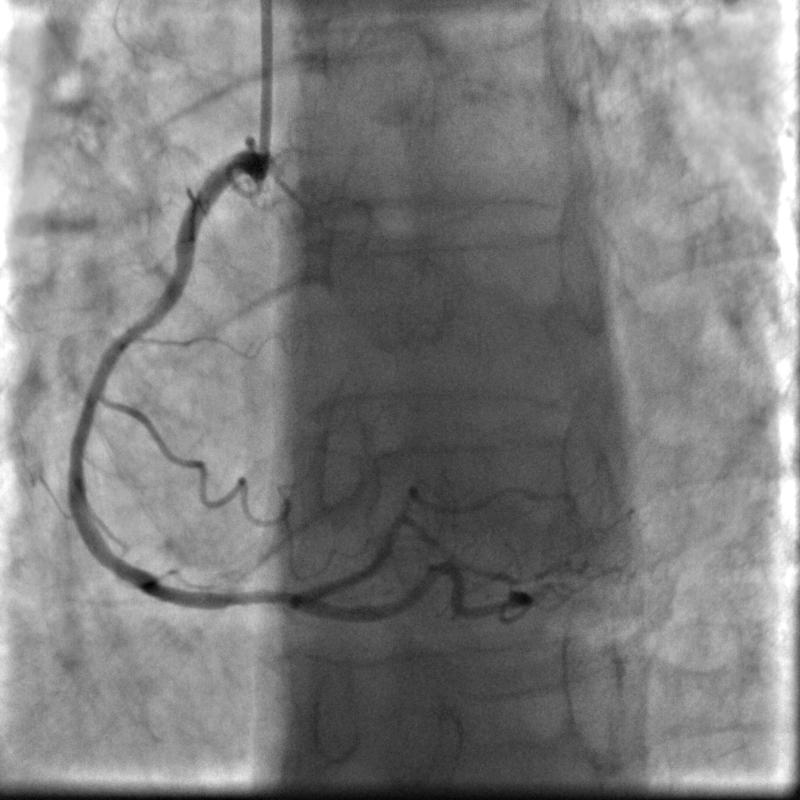Stenosis: (210, 577, 294, 622)
